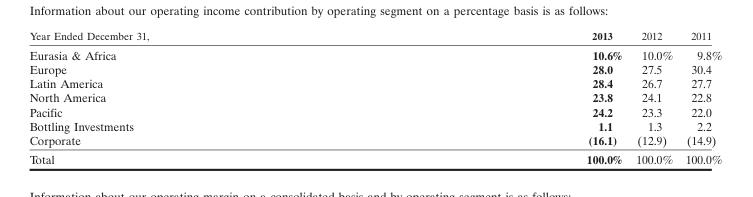table: (28, 29, 721, 166)
table column: (28, 29, 367, 166), (367, 29, 628, 166), (628, 29, 678, 166), (678, 29, 721, 166)
table column header: (28, 29, 721, 44)
table row: (28, 44, 721, 61), (28, 132, 721, 149), (28, 149, 721, 166), (28, 29, 721, 44), (28, 75, 721, 90), (28, 61, 721, 75), (28, 90, 721, 104), (28, 104, 721, 118), (28, 118, 721, 132)
